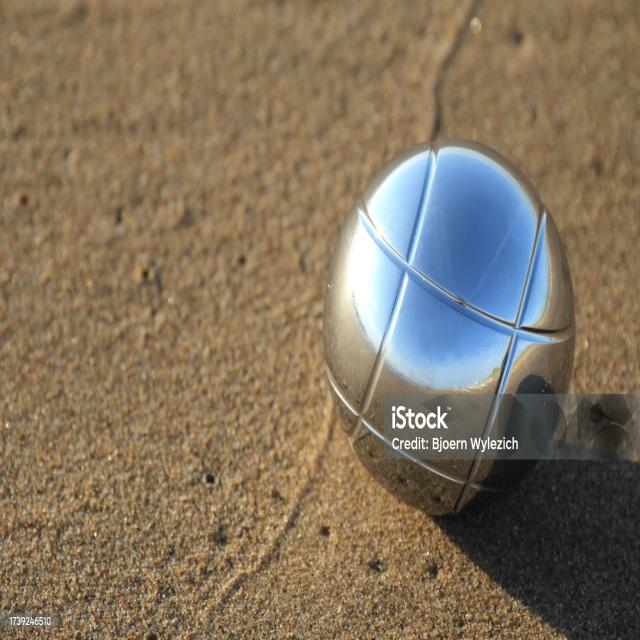petanque: (316, 128, 584, 533)
